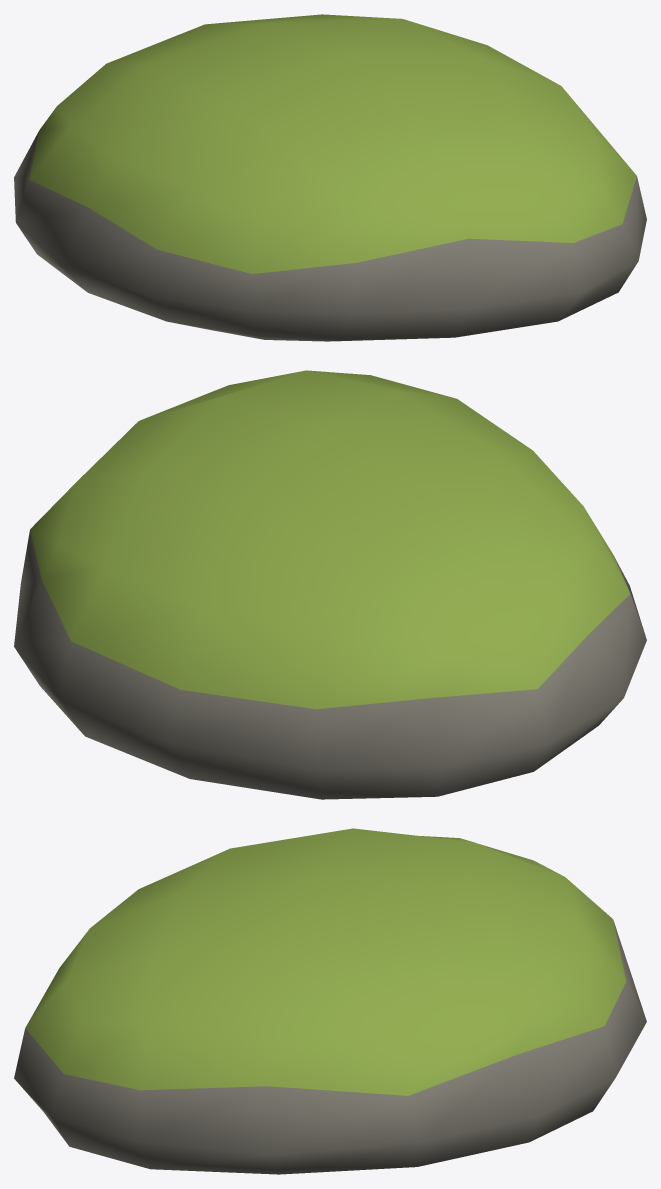
Rendered from itch_assetquest_pond_pebble_2a_moss.glb.
The picture shows the model from 3 angles, top to bottom: view 1: azimuth 30°, elevation 25°; view 2: azimuth 150°, elevation 25°; view 3: azimuth 270°, elevation 25°; orthographic projection. The views are drawn at different scales.
Visible parts, largest first — view 1: Pebble_2a_Moss; view 2: Pebble_2a_Moss; view 3: Pebble_2a_Moss.
Part boxes in pixels (box(x1,y1,x2,y2)): Pebble_2a_Moss: box(14, 14, 646, 341); Pebble_2a_Moss: box(14, 370, 646, 799); Pebble_2a_Moss: box(14, 828, 646, 1174).
Bounding box in the file's own units: 0.4076 × 0.1705 × 0.42.
